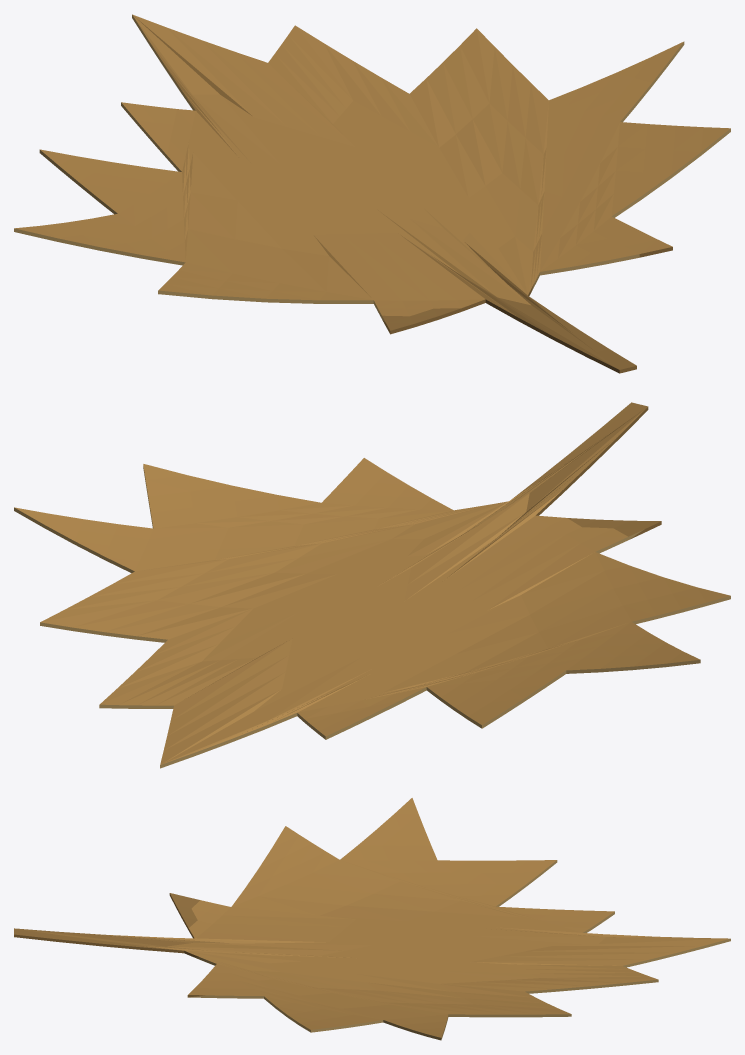
3 renders of one model, top to bottom at view 1: azimuth 30°, elevation 25°; view 2: azimuth 150°, elevation 25°; view 3: azimuth 270°, elevation 25°, orthographic. The views are drawn at different scales.
Parts seen in each view (by area): view 1: WholeCurledPalmateLeafAndPetiole; view 2: WholeCurledPalmateLeafAndPetiole; view 3: WholeCurledPalmateLeafAndPetiole.
Boxes of the visible parts, x1,y1,x2,y2 form: WholeCurledPalmateLeafAndPetiole: (14,14,730,373); WholeCurledPalmateLeafAndPetiole: (14,402,730,768); WholeCurledPalmateLeafAndPetiole: (14,798,730,1040).
Bounding box in the file's own units: 0.159 × 0.0108 × 0.198.
